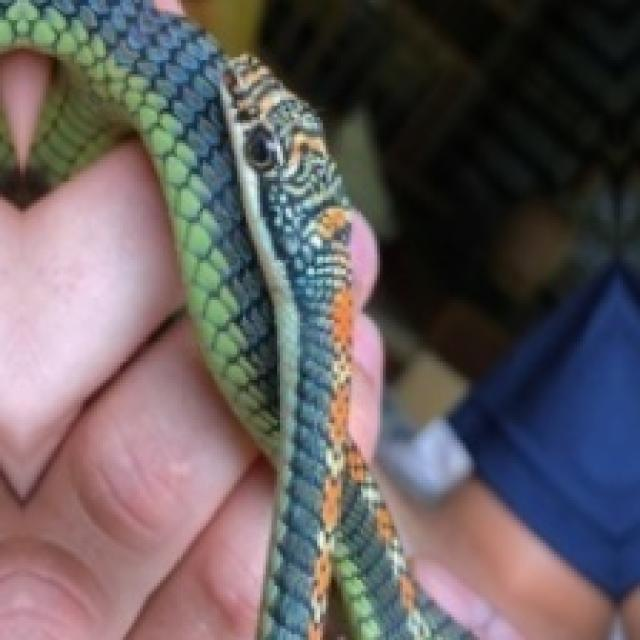paradise tree snake: (0, 0, 466, 637)
